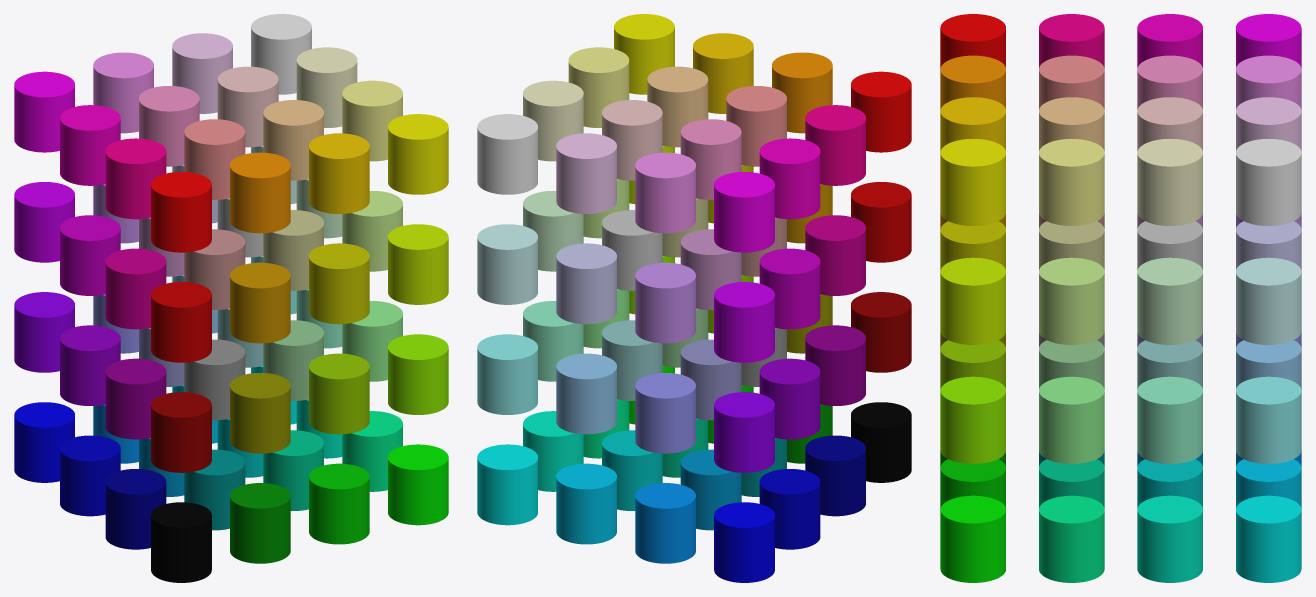
Rendered from serial_test_example_fn_std-appearance-hexString3_output.glb.
The picture shows the model from 3 angles, left to right: view 1: azimuth 30°, elevation 25°; view 2: azimuth 150°, elevation 25°; view 3: azimuth 270°, elevation 25°; orthographic projection. The views are drawn at different scales.
Size of the model in its own units: 0.165 by 0.21 by 0.165.
